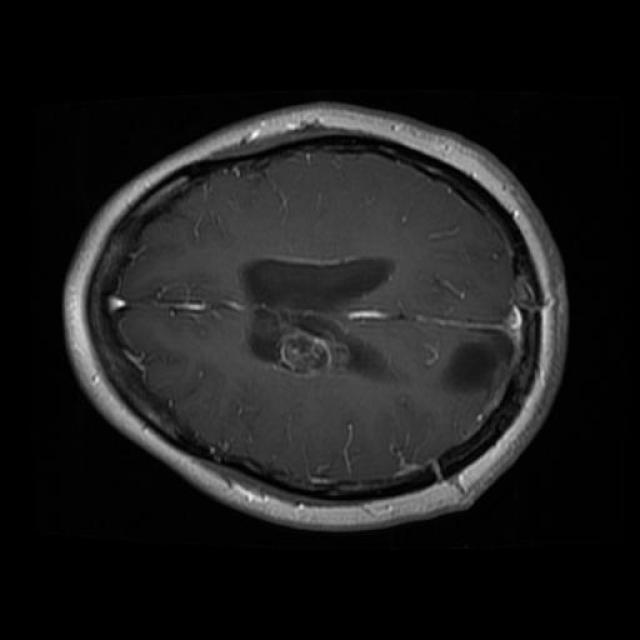Glioma: (250, 306, 353, 374), (442, 342, 506, 392)
